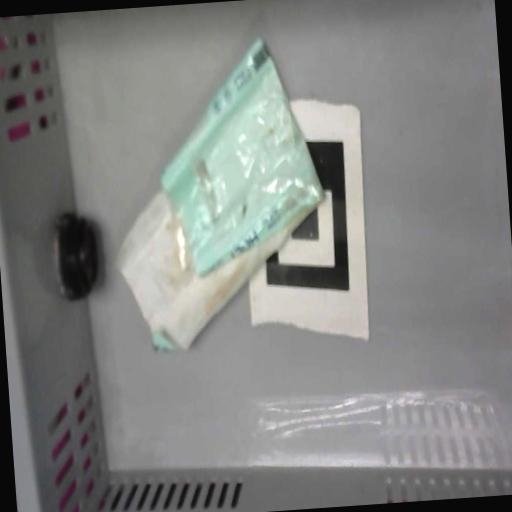QR: (235, 93, 376, 351)
triple_syringe: (101, 32, 336, 358)
